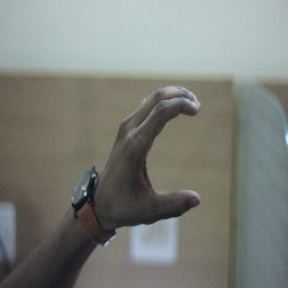C: (108, 86, 219, 228)
